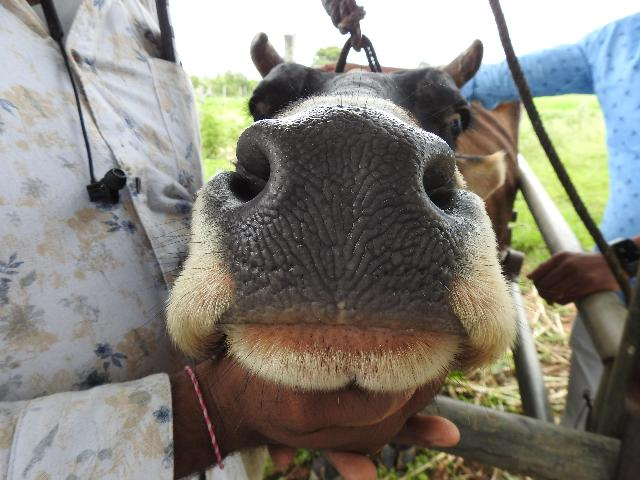Muzzle: (262, 124, 426, 306)
